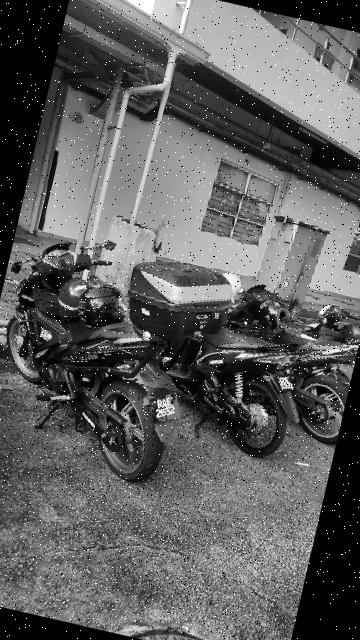License_Plate: (142, 387, 196, 434), (269, 370, 304, 397)
motorcycle: (1, 221, 216, 492), (206, 279, 360, 478)
